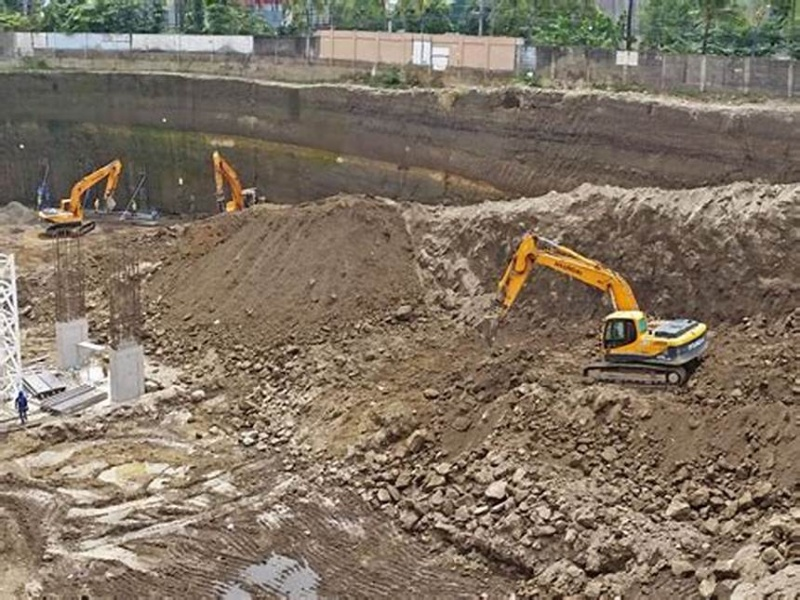excavator: (491, 232, 710, 390), (33, 156, 124, 243), (210, 148, 267, 222)
